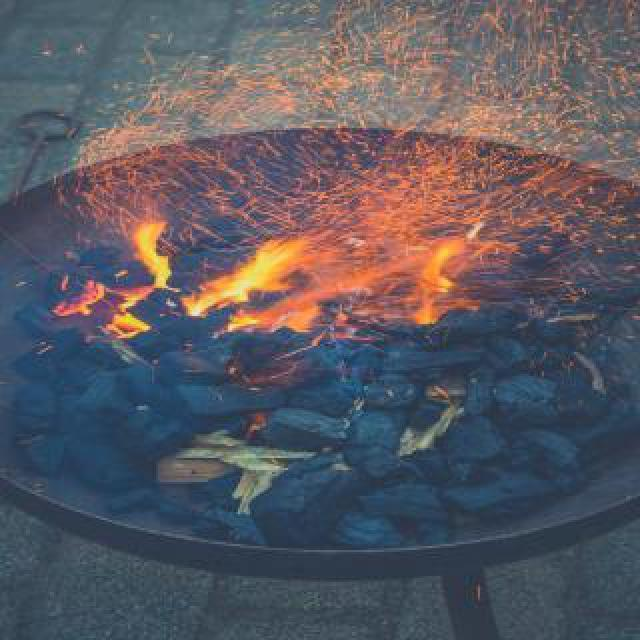Fire: (108, 176, 530, 340)
